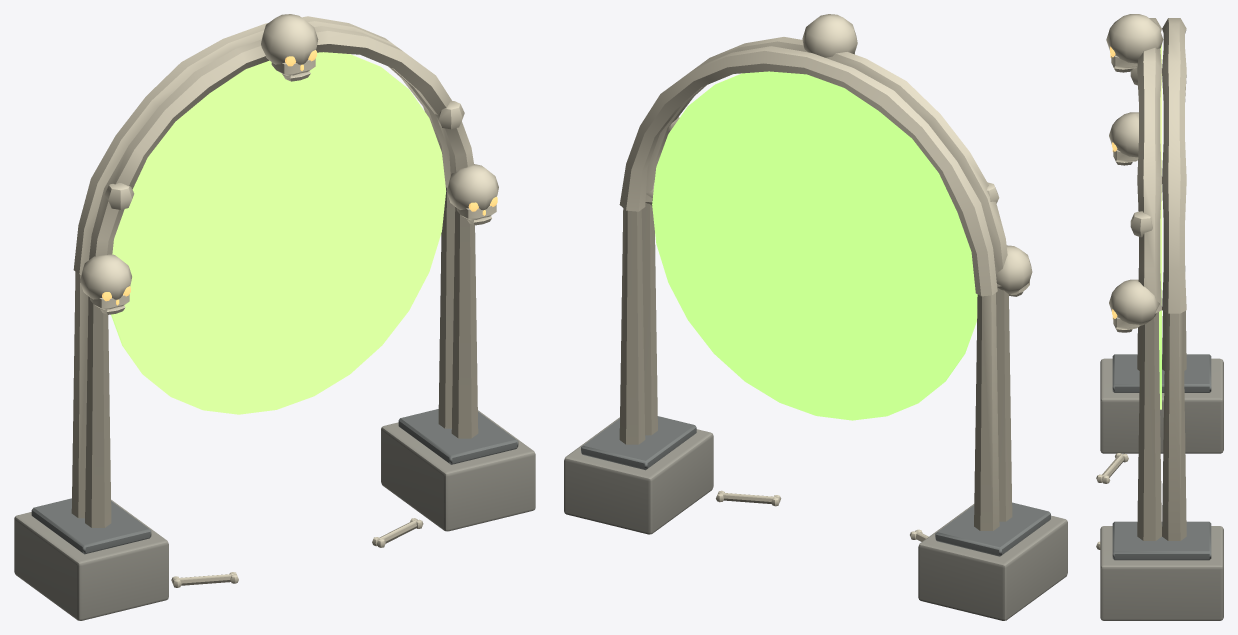
Rendered from gate_bone.glb.
The picture shows the model from 3 angles, left to right: view 1: azimuth 30°, elevation 25°; view 2: azimuth 150°, elevation 25°; view 3: azimuth 270°, elevation 25°; orthographic projection. The views are drawn at different scales.
Visible parts, largest first — view 1: glow, gate_bone; view 2: glow, gate_bone; view 3: gate_bone, glow.
Part boxes in pixels (<box>): glow: <box>111,52,446,414</box>; gate_bone: <box>14,14,535,620</box>; glow: <box>652,71,977,420</box>; gate_bone: <box>564,14,1067,620</box>; gate_bone: <box>1096,14,1223,620</box>; glow: <box>1159,44,1161,409</box>.
Bounding box in the file's own units: 2 × 2.24 × 0.5163.
